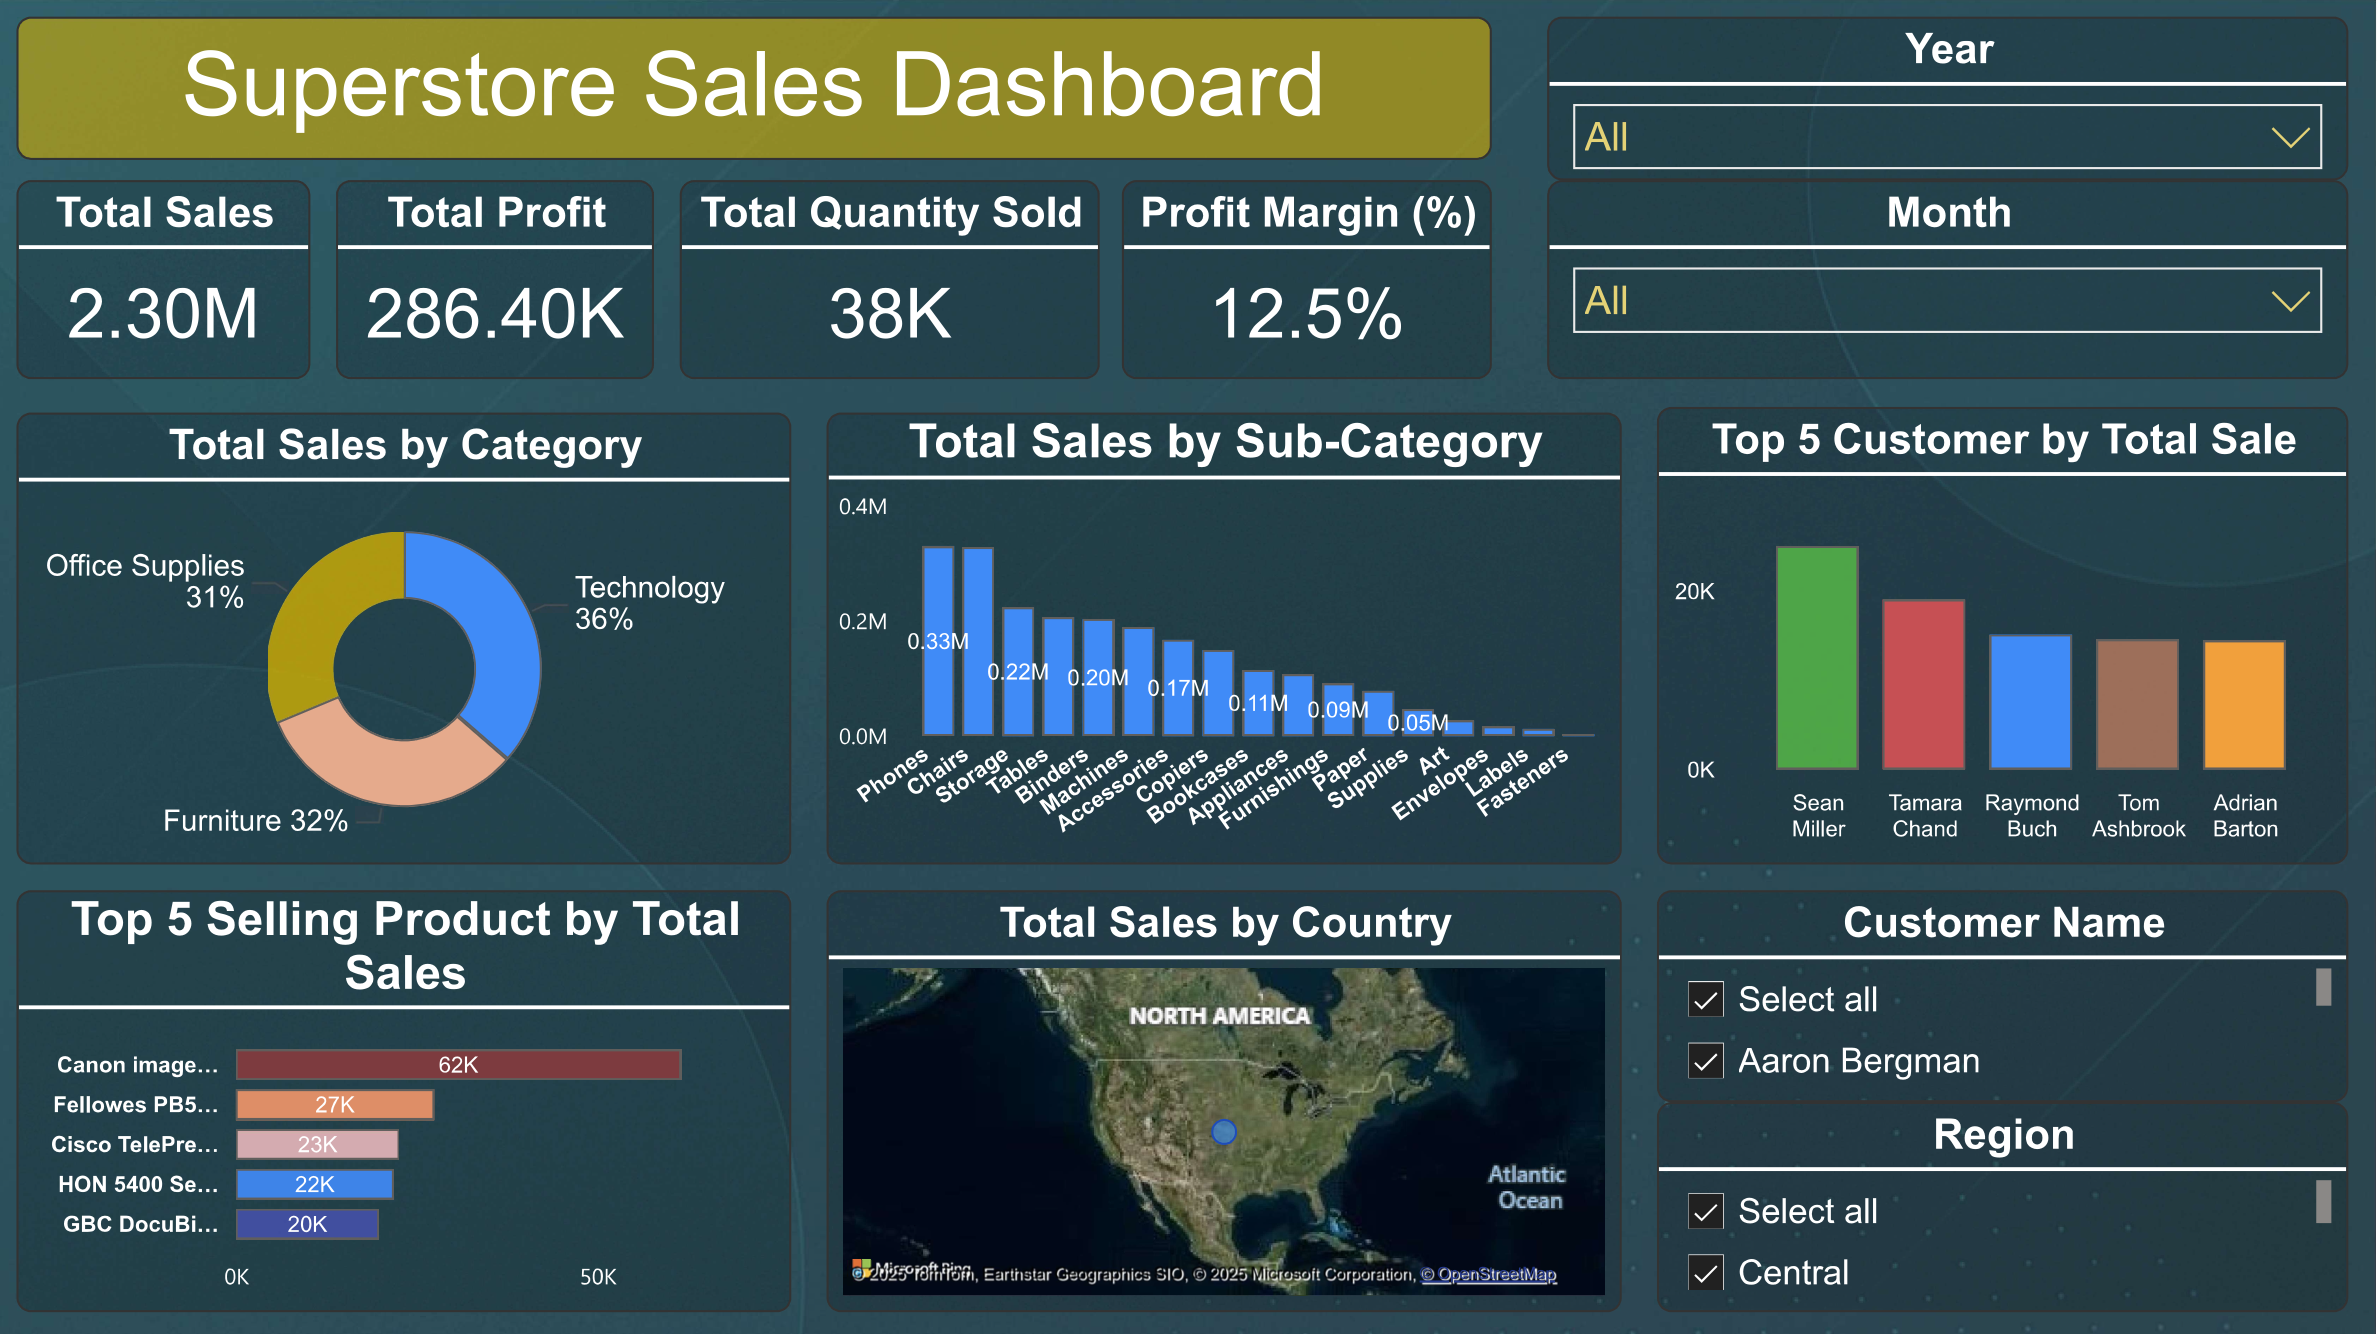

This screenshot's page, from the dashboard's own definition file:
{"tool":"powerbi","page":{"name":"Page 1","canvas":[1280,720],"ordinal":0},"visuals":[{"type":"card","title":"Total Sales","fields":{"Values":["Calendar.Total Sales"]},"box":[10.3,97.6,158.2,107.9],"z":0},{"type":"card","title":"Total Profit","fields":{"Values":["superstore.Total Profit"]},"box":[181.8,97.6,171.5,107.9],"z":1000},{"type":"card","title":"Profit Margin (%)","fields":{"Values":["superstore.Profit Margin % (Fmt)"]},"box":[604.5,97.6,199.5,107.9],"z":2000},{"type":"card","title":"Total Quantity Sold","fields":{"Values":["superstore.Total Qty"]},"box":[366.6,97.6,226.1,107.9],"z":3000},{"type":"donutChart","fields":{"Category":["superstore.Category"],"Y":["Calendar.Total Sales"]},"box":[10.3,223.2,416.8,242.4],"z":4000},{"type":"textbox","box":[10.3,10.3,793.7,76.9],"z":5000},{"type":"barChart","title":"Top 5 Selling Product by Total Sales","fields":{"Category":["superstore.Product Name"],"Y":["Calendar.Total Sales"]},"box":[10.3,480.4,416.8,226.1],"z":6000},{"type":"columnChart","fields":{"Category":["superstore.Sub-Category"],"Y":["Calendar.Total Sales"]},"box":[446.4,223.2,427.2,242.4],"z":7000},{"type":"columnChart","title":"Top 5 Customer by Total Sale","fields":{"Category":["superstore.Customer Name"],"Y":["Calendar.Total Sales"]},"box":[892.7,220.2,372.5,245.4],"z":8000},{"type":"slicer","title":"Customer Name","fields":{"Values":["superstore.Customer Name"]},"box":[892.7,480.4,372.5,113.8],"z":9000},{"type":"map","fields":{"Size":["Calendar.Total Sales"],"Category":["superstore.Country"]},"box":[446.4,480.4,427.2,226.1],"z":10000},{"type":"slicer","title":"Region","fields":{"Values":["superstore.Region"]},"box":[892.7,594.2,372.5,112.3],"z":10001},{"type":"slicer","title":"Month","fields":{"Values":["Calendar.Month"]},"box":[833.6,97.6,431.6,107.9],"z":10002},{"type":"slicer","title":"Year","fields":{"Values":["Calendar.Year"]},"box":[833.6,10.3,431.6,87.2],"z":10003}]}

Visuals, with their boxes in screenshot pixels (x1, y1, x2, y2), scaled from the page's 1280x720 canvas onto the 2378x1334 screenshot:
"Total Sales" card: [19,181,313,381]
"Total Profit" card: [338,181,656,381]
"Profit Margin (%)" card: [1123,181,1494,381]
"Total Quantity Sold" card: [681,181,1101,381]
donutChart - superstore.Category x Calendar.Total Sales: [19,414,793,863]
textbox: [19,19,1494,162]
"Top 5 Selling Product by Total Sales" barChart: [19,890,793,1309]
columnChart - superstore.Sub-Category x Calendar.Total Sales: [829,414,1623,863]
"Top 5 Customer by Total Sale" columnChart: [1658,408,2351,863]
"Customer Name" slicer: [1658,890,2351,1101]
map - Calendar.Total Sales x superstore.Country: [829,890,1623,1309]
"Region" slicer: [1658,1101,2351,1309]
"Month" slicer: [1549,181,2351,381]
"Year" slicer: [1549,19,2351,181]
